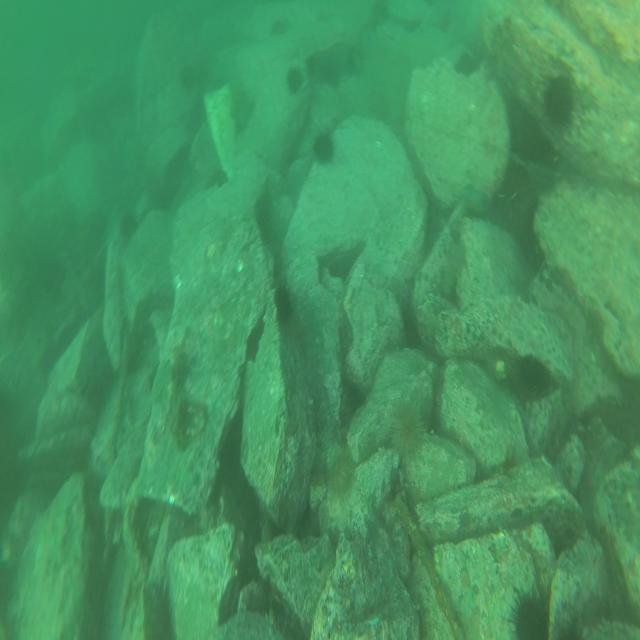echinus: (505, 580, 550, 640), (387, 398, 428, 456), (539, 68, 576, 128), (322, 441, 356, 497), (274, 284, 297, 327), (313, 128, 336, 164), (283, 63, 305, 95)
